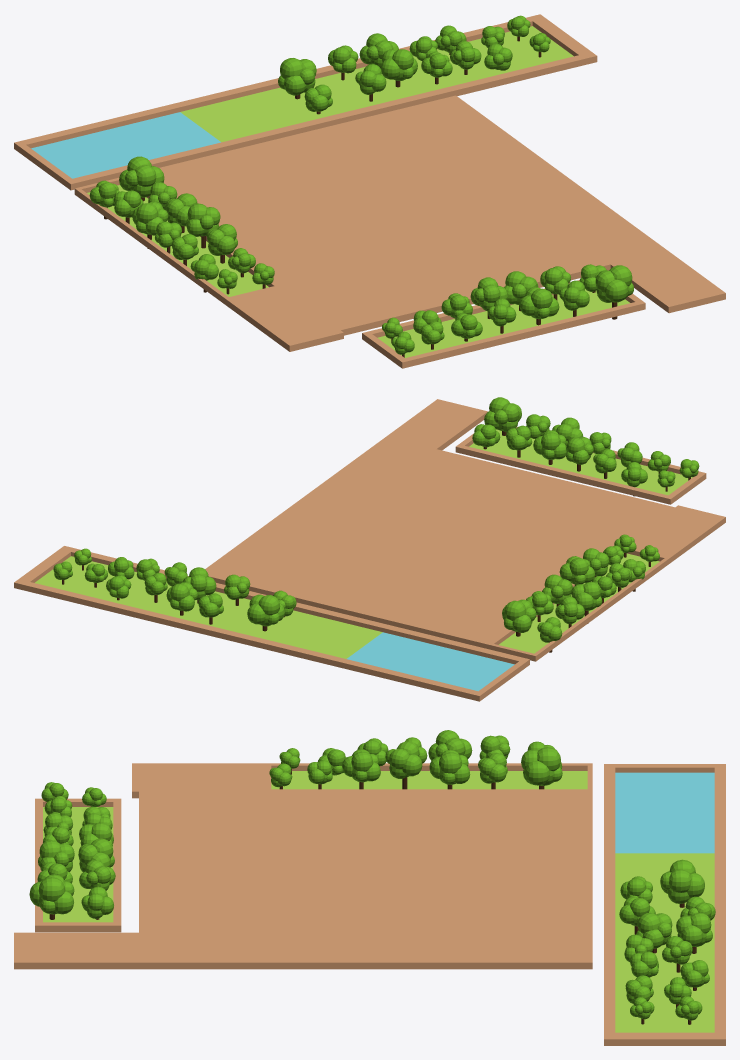
File: garden.fbx
3 renders of one model, top to bottom at view 1: azimuth 30°, elevation 25°; view 2: azimuth 150°, elevation 25°; view 3: azimuth 270°, elevation 25°, orthographic. The views are drawn at different scales.
Visible parts, largest first — view 1: Cube.195; view 2: Cube.195; view 3: Cube.195.
Boxes of the visible parts, bbox=[...] form: Cube.195: bbox=[14, 14, 725, 368]; Cube.195: bbox=[14, 397, 725, 701]; Cube.195: bbox=[14, 730, 725, 1045].
Bounding box in the file's own units: 131 × 12.87 × 141.
Materials: 2 (2 with a texture image).
